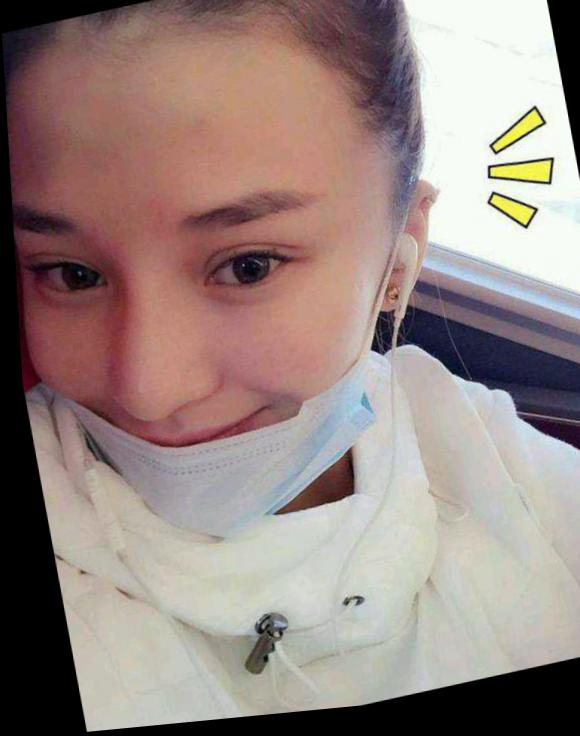WRONG: (8, 122, 401, 556)
